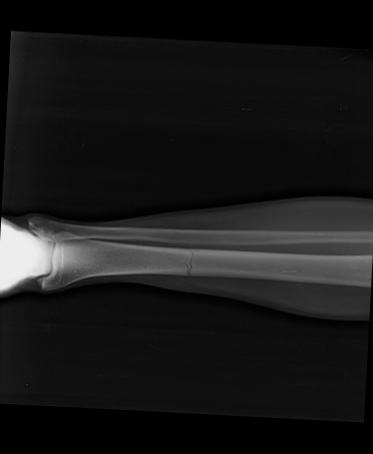fractured: (180, 249, 196, 276)
